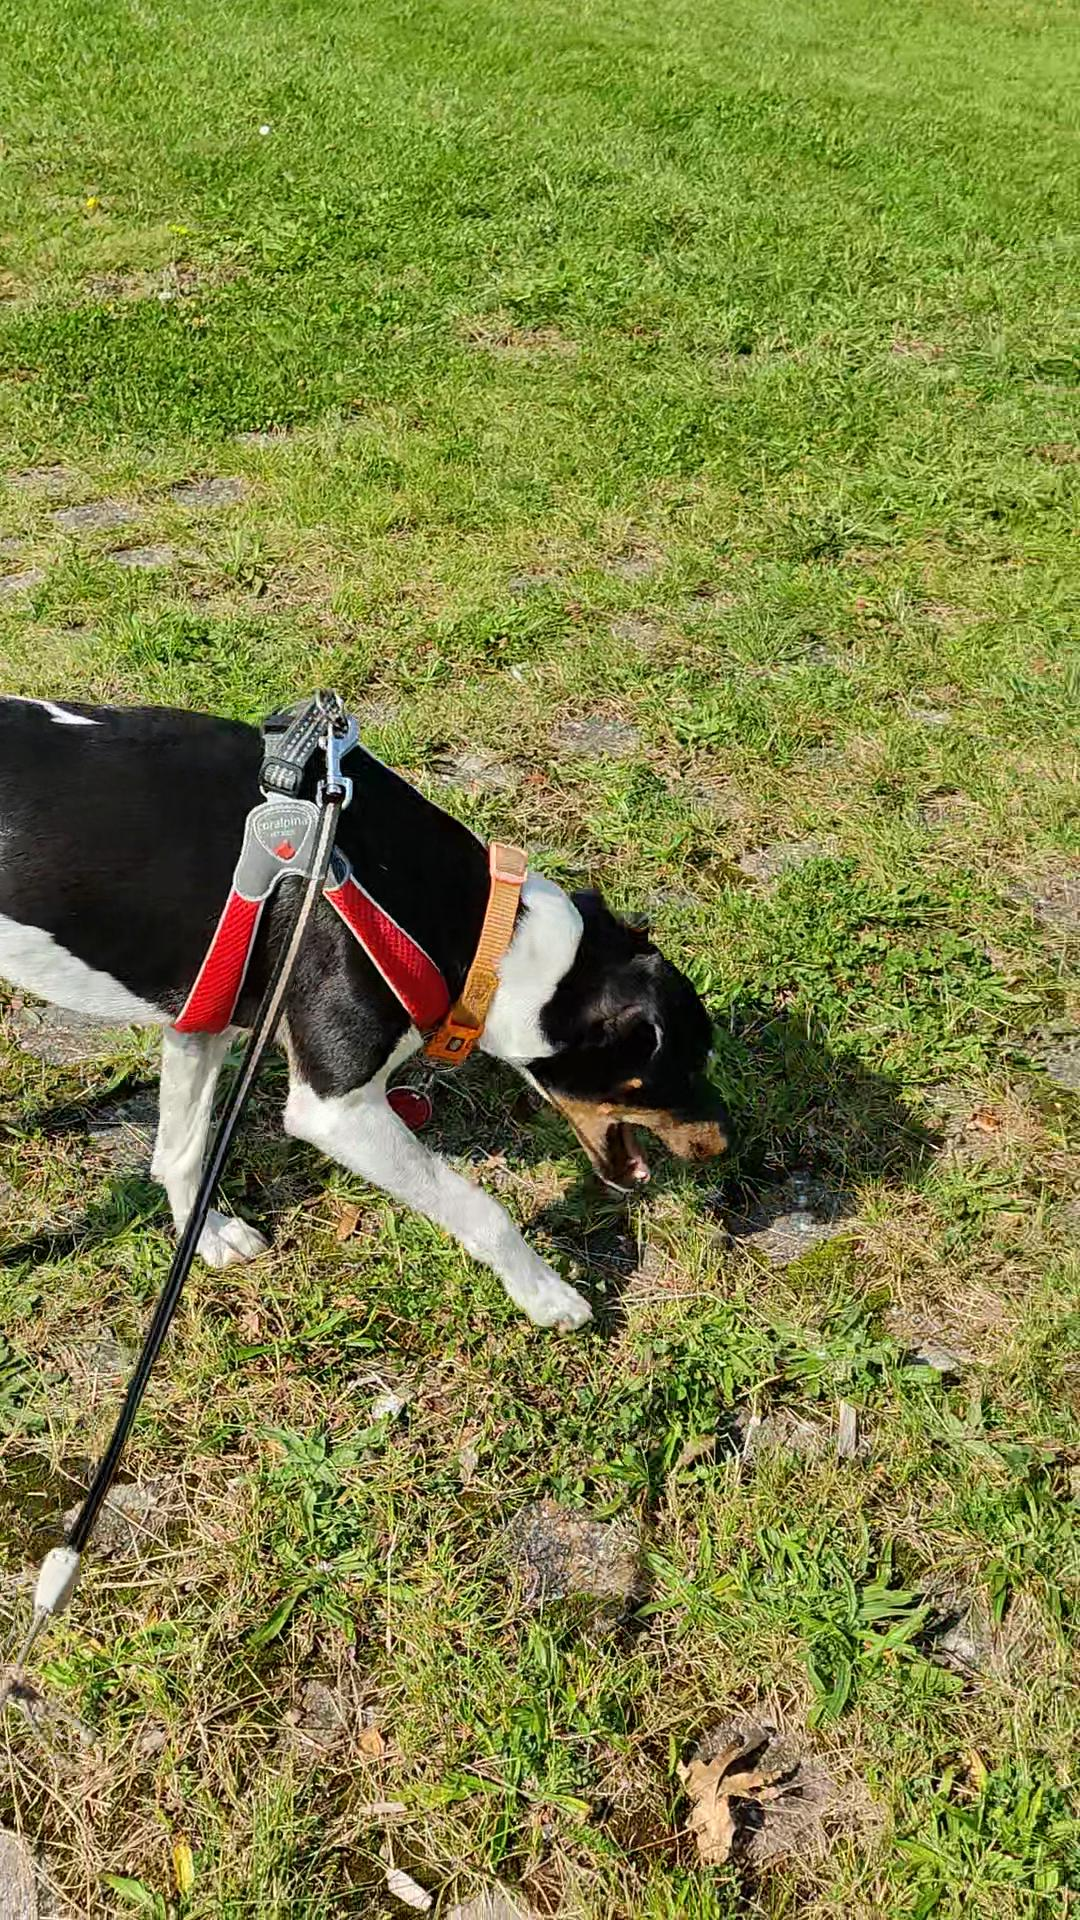Dog: (0, 651, 785, 1369)
